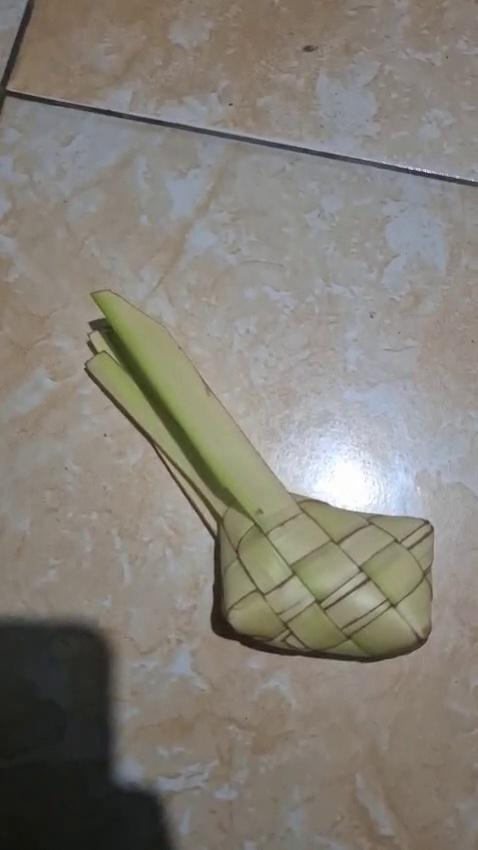Tipat Bantal: (82, 289, 434, 668)
